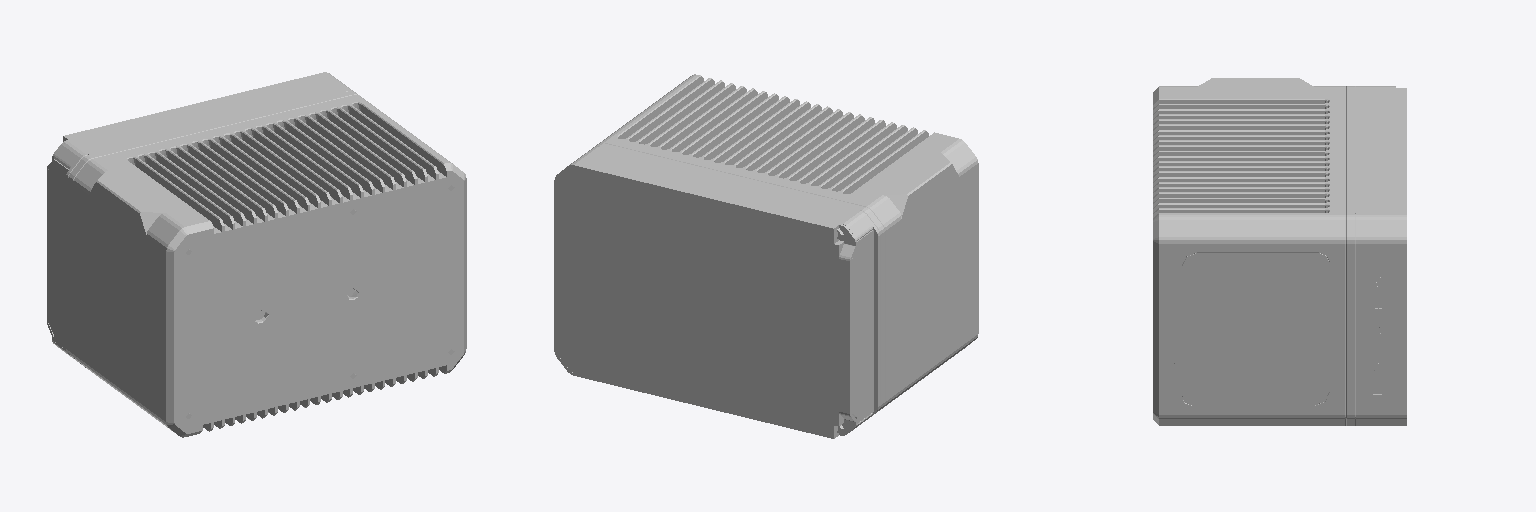
File: horizon.obj
3 renders of one model, left to right at view 1: azimuth 30°, elevation 25°; view 2: azimuth 150°, elevation 25°; view 3: azimuth 270°, elevation 25°, orthographic.
Parts seen in each view (by area): view 1: 1, 25; view 2: 1, 25; view 3: 1, 26.
Boxes of the visible parts, box(x1,y1,x2,y2) form: 1: box(47, 72, 466, 437); 25: box(47, 142, 357, 426); 1: box(554, 74, 977, 438); 25: box(562, 163, 978, 434); 1: box(1153, 78, 1406, 425); 26: box(1182, 253, 1328, 404).
Size of the model in its own units: 115 by 77 by 84.1.